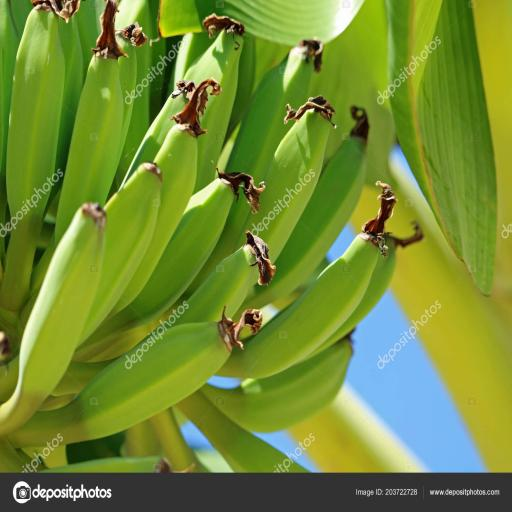banana-unripe: (0, 0, 410, 475)
